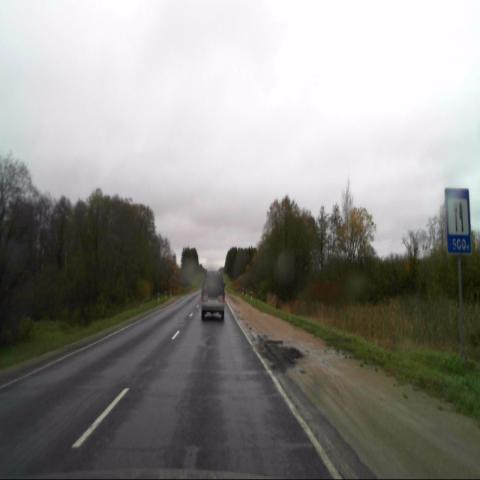7_7: (445, 187, 472, 255)
